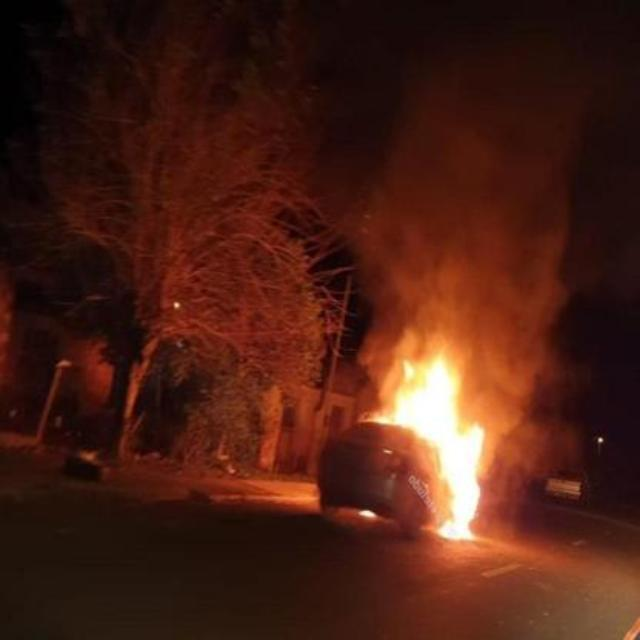Fire: (376, 354, 486, 544)
